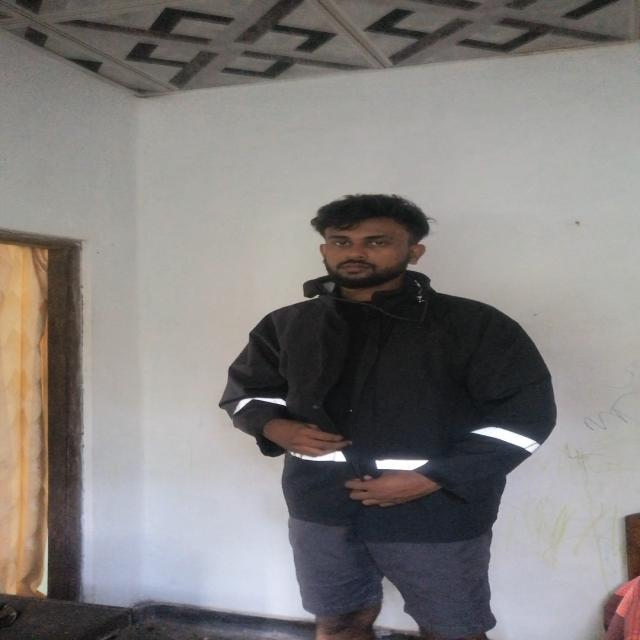Jacket_Wearer: (230, 274, 556, 537)
Person: (228, 187, 555, 640)
